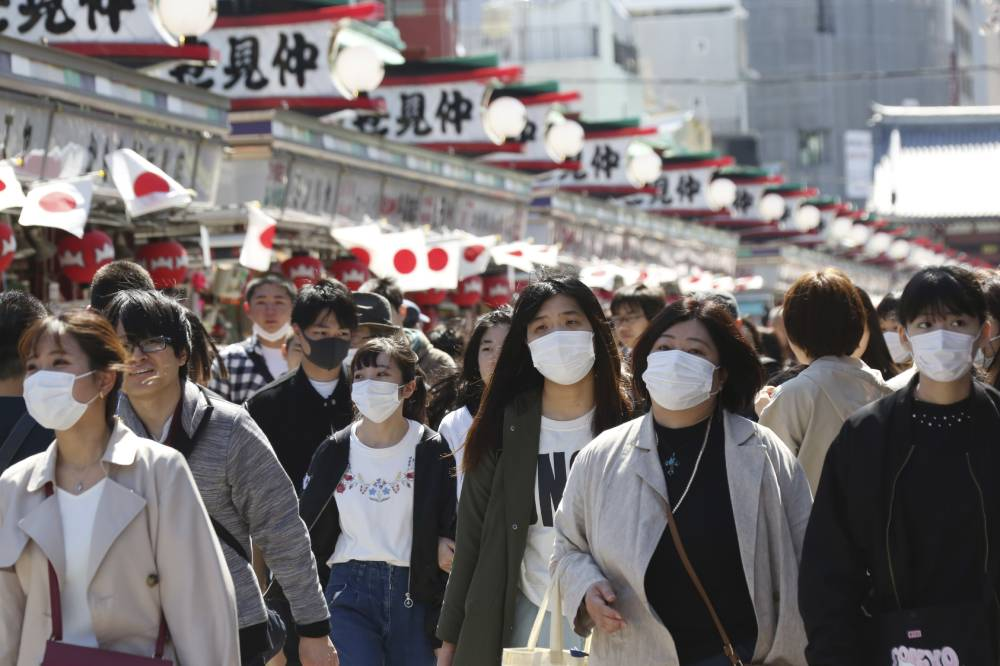with_mask: (526, 304, 598, 387), (26, 340, 98, 422), (654, 323, 707, 402), (912, 309, 968, 375), (359, 364, 400, 417), (307, 313, 347, 367)
without_mask: (254, 294, 293, 340)
